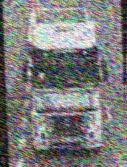truck: (29, 6, 105, 152)
